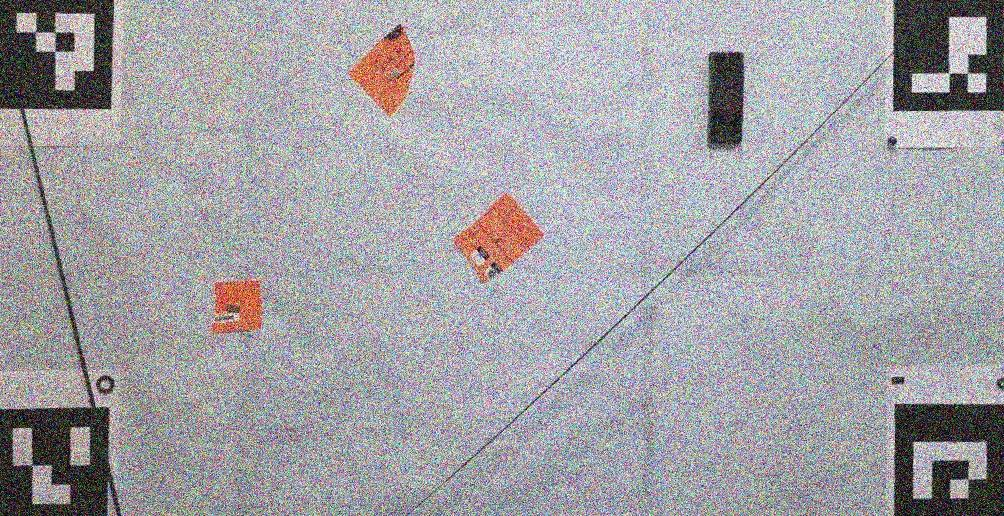obstacle: (453, 193, 542, 284), (348, 25, 416, 119), (709, 50, 742, 150), (211, 279, 263, 335)
